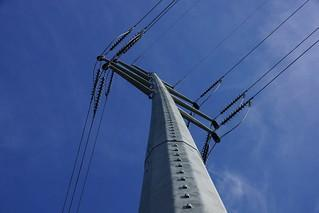power_tower: (90, 19, 255, 213)
